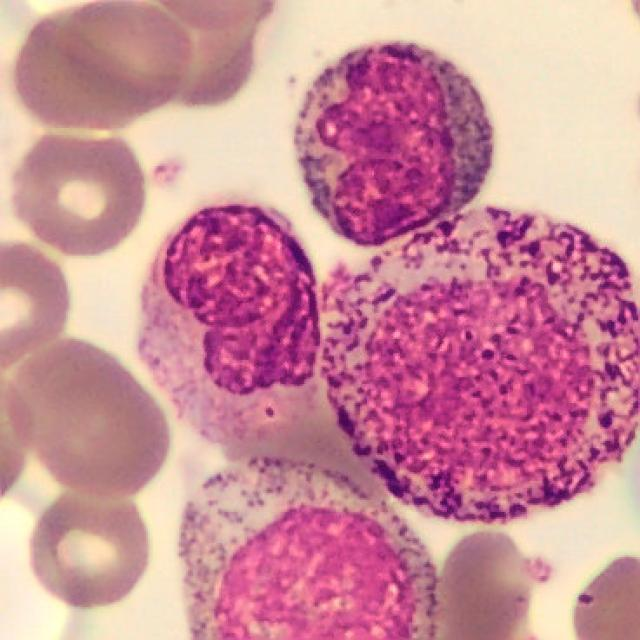Promielocito: (320, 208, 640, 524)
